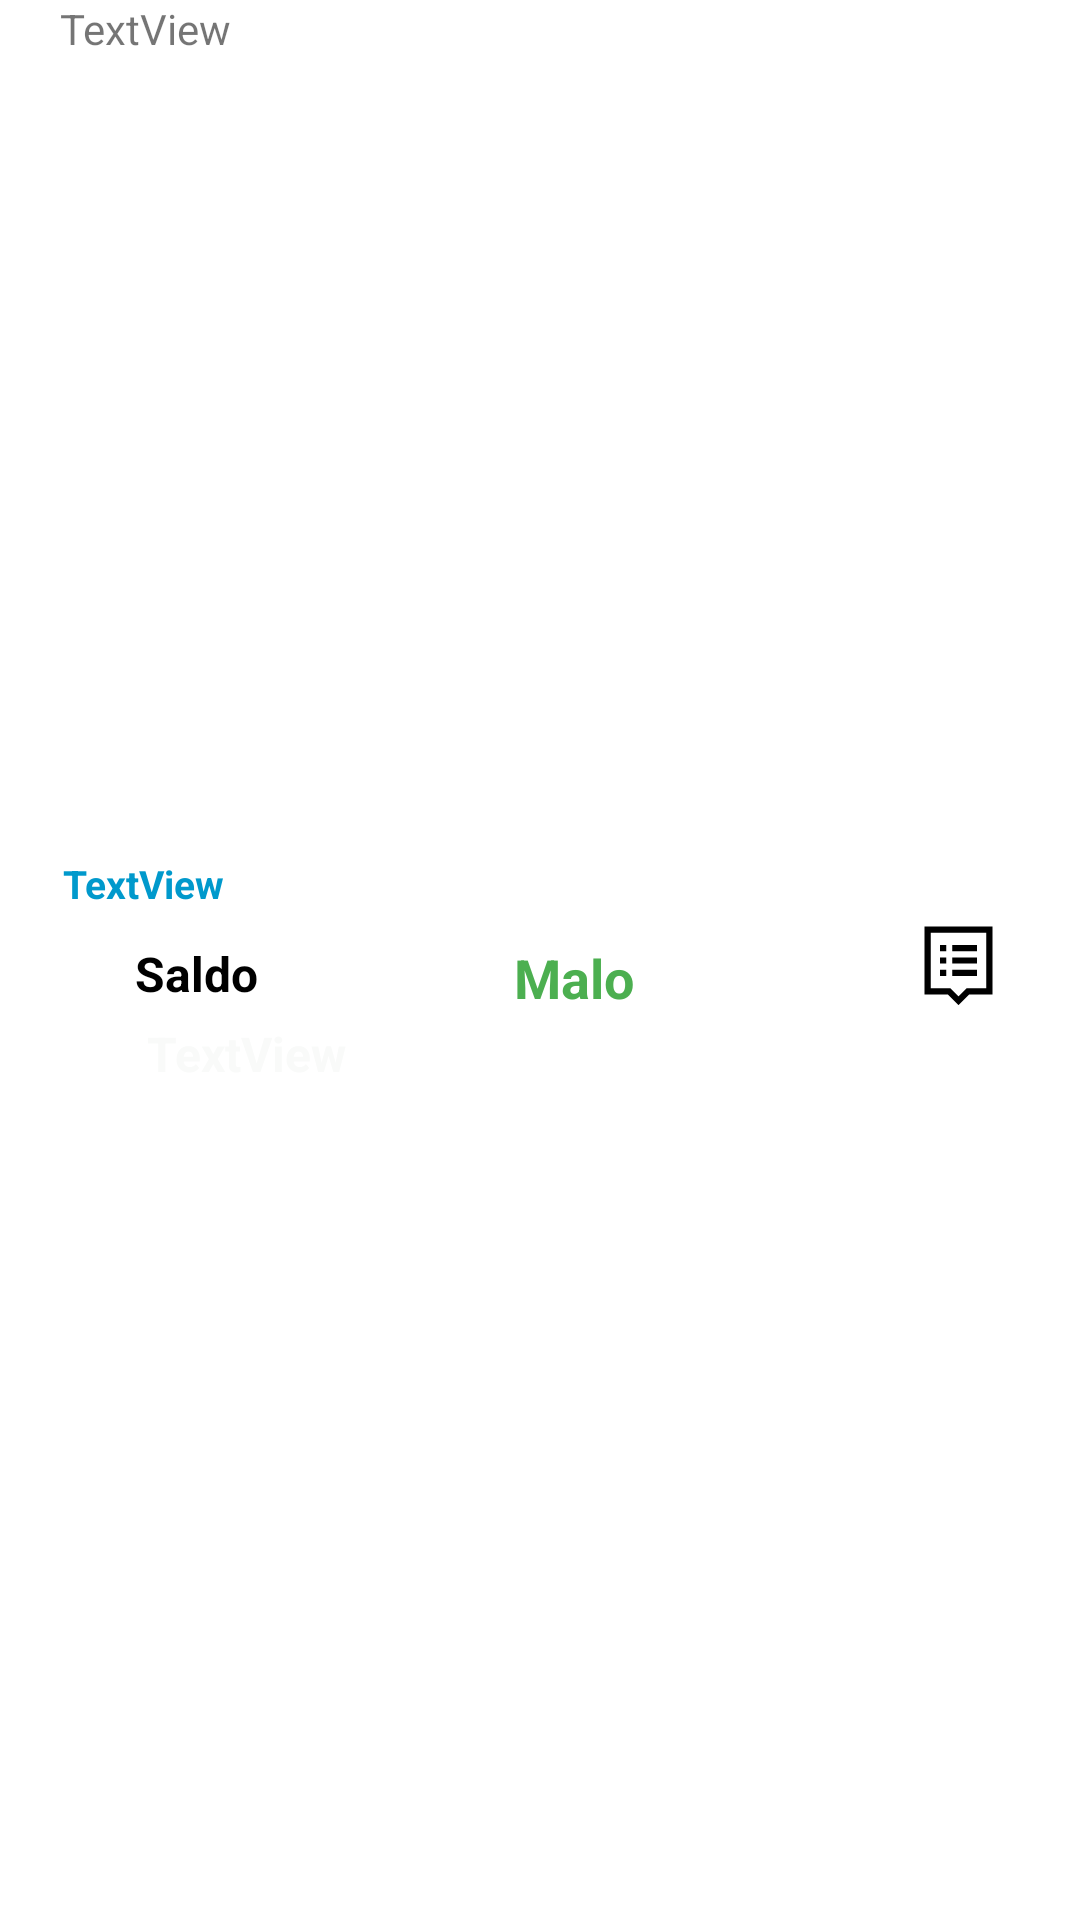

Locate icon controls on the screen. Image size 1080 x 1920, boxes as (x1, y1, x2, y2).
details: (924, 926, 993, 1005)
